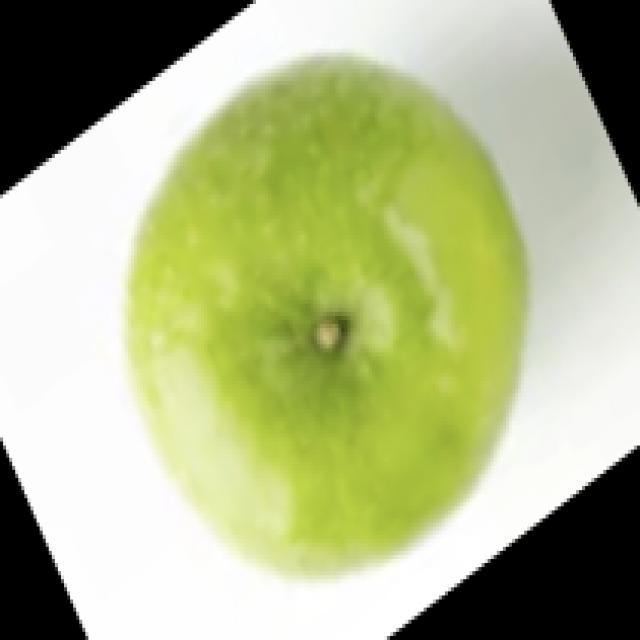Fresh Apple: (143, 60, 525, 562)
